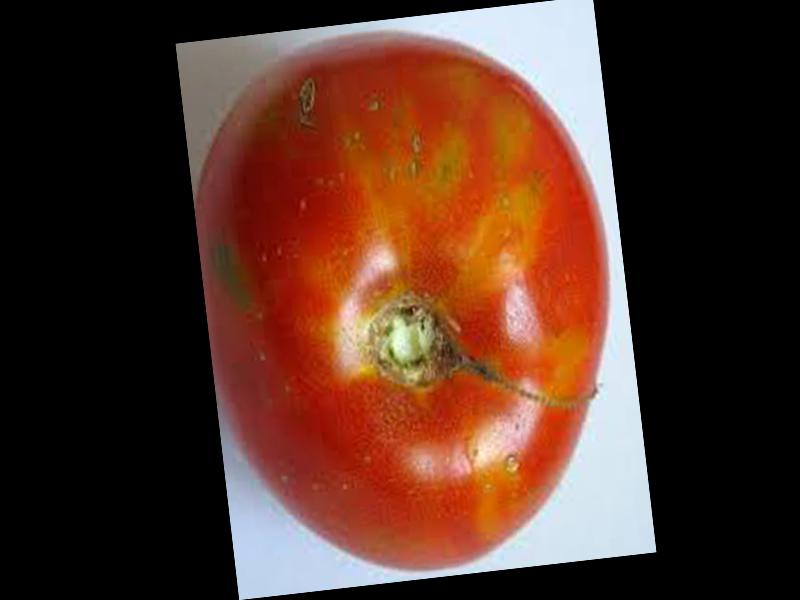Tomato: (178, 11, 640, 594)
